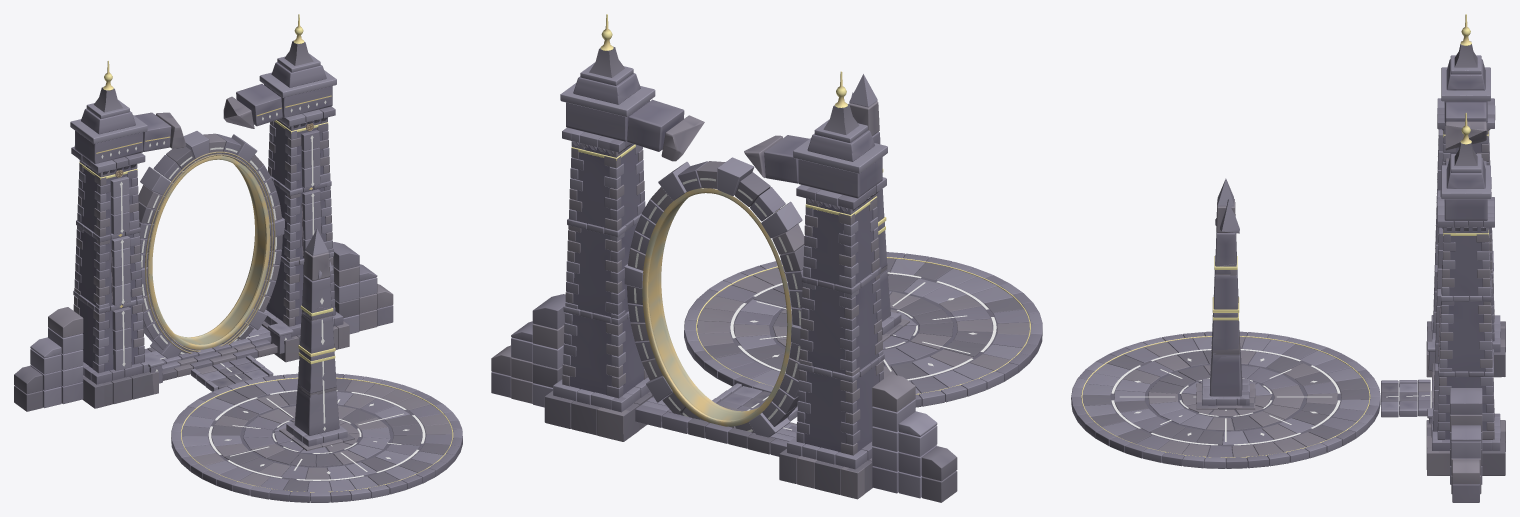
The model's file is bd_riftgate.glb.
3 renders of one model, left to right at view 1: azimuth 30°, elevation 25°; view 2: azimuth 150°, elevation 25°; view 3: azimuth 270°, elevation 25°, orthographic. The views are drawn at different scales.
Parts seen in each view (by area): view 1: BD_riftgate__body, BD_riftgate__steleB, BD_riftgate__steleC, BD_riftgate__steleA; view 2: BD_riftgate__body, BD_riftgate__steleA, BD_riftgate__steleC, BD_riftgate__steleB; view 3: BD_riftgate__body, BD_riftgate__steleB, BD_riftgate__steleC, BD_riftgate__steleA.
Part boxes in pixels (bbox=[...]): BD_riftgate__body: bbox=[14, 14, 462, 502]; BD_riftgate__steleB: bbox=[281, 259, 343, 445]; BD_riftgate__steleC: bbox=[279, 352, 354, 450]; BD_riftgate__steleA: bbox=[292, 229, 344, 444]; BD_riftgate__body: bbox=[491, 14, 1042, 502]; BD_riftgate__steleA: bbox=[849, 74, 899, 335]; BD_riftgate__steleC: bbox=[878, 226, 909, 341]; BD_riftgate__steleB: bbox=[851, 92, 901, 339]; BD_riftgate__body: bbox=[1071, 14, 1505, 502]; BD_riftgate__steleB: bbox=[1197, 198, 1254, 408]; BD_riftgate__steleC: bbox=[1196, 313, 1255, 410]; BD_riftgate__steleA: bbox=[1204, 178, 1253, 406].
Size of the model in its own units: 26.18 by 23.3 by 25.34.
